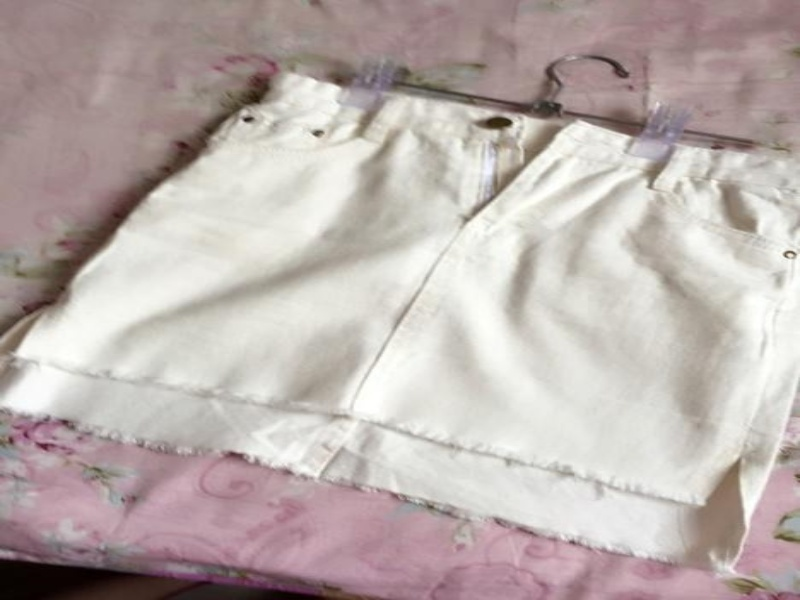skirt: (0, 71, 798, 578)
